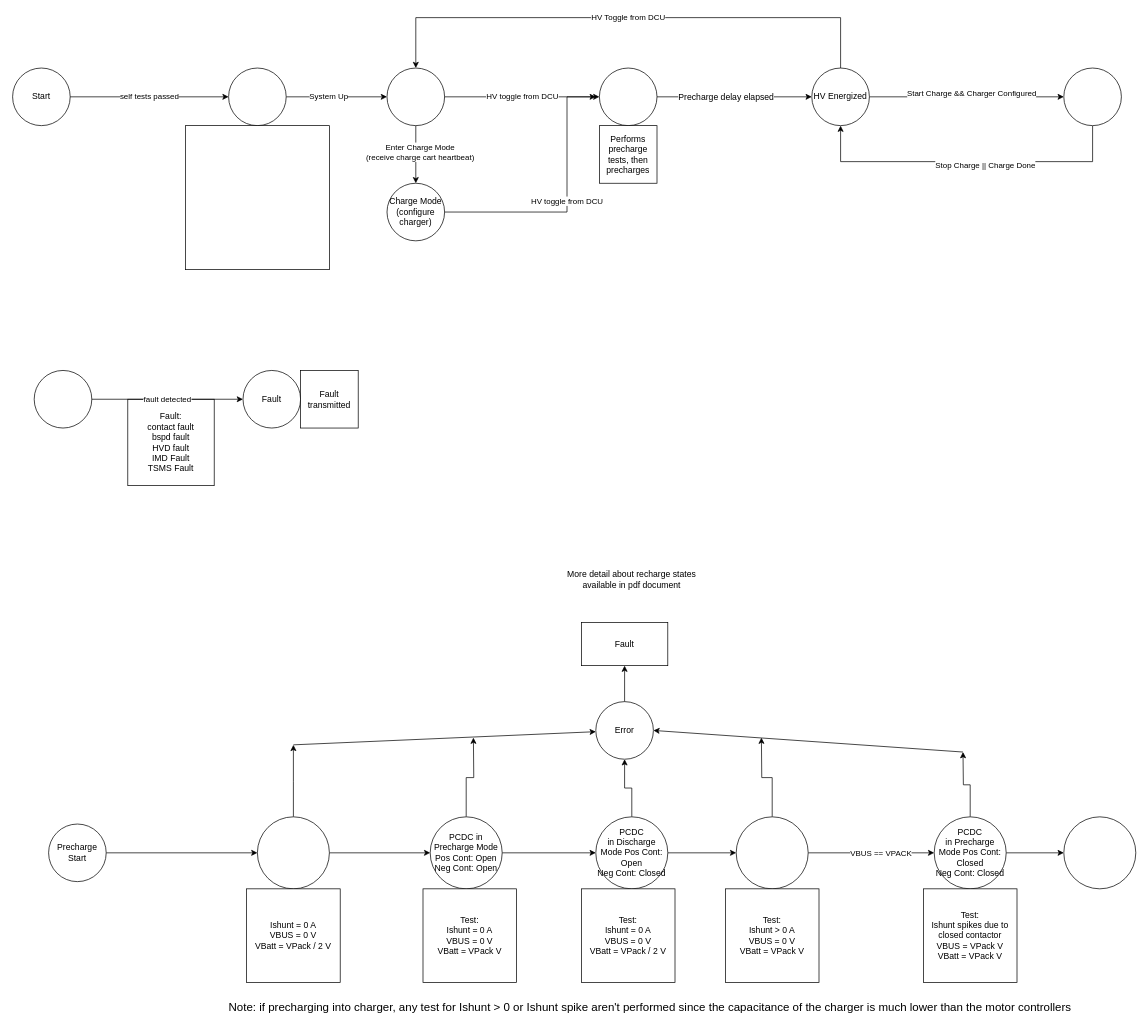
The diagram is 1148 pixels wide and 1027 high, and some of its shapes have lost their labels. Each missing label, with the centre of its shape:
"Charging" belongs at point (1092, 96).
"De-energized" belongs at point (415, 96).
"IMD Status OK HVIL OK IL OK" belongs at point (257, 197).
"OK" belongs at point (62, 399).
"PCDC in Discharge Mode Pos Cont: Open Neg Cont: Open" belongs at point (293, 852).
"PCDC in Precharge Mode Pos Cont: Open Neg Cont: Closed" belongs at point (771, 852).
"Precharge" belongs at point (628, 96).
"Precharge Done" belongs at point (1099, 852).
"SystemUpCheck" belongs at point (257, 96).
